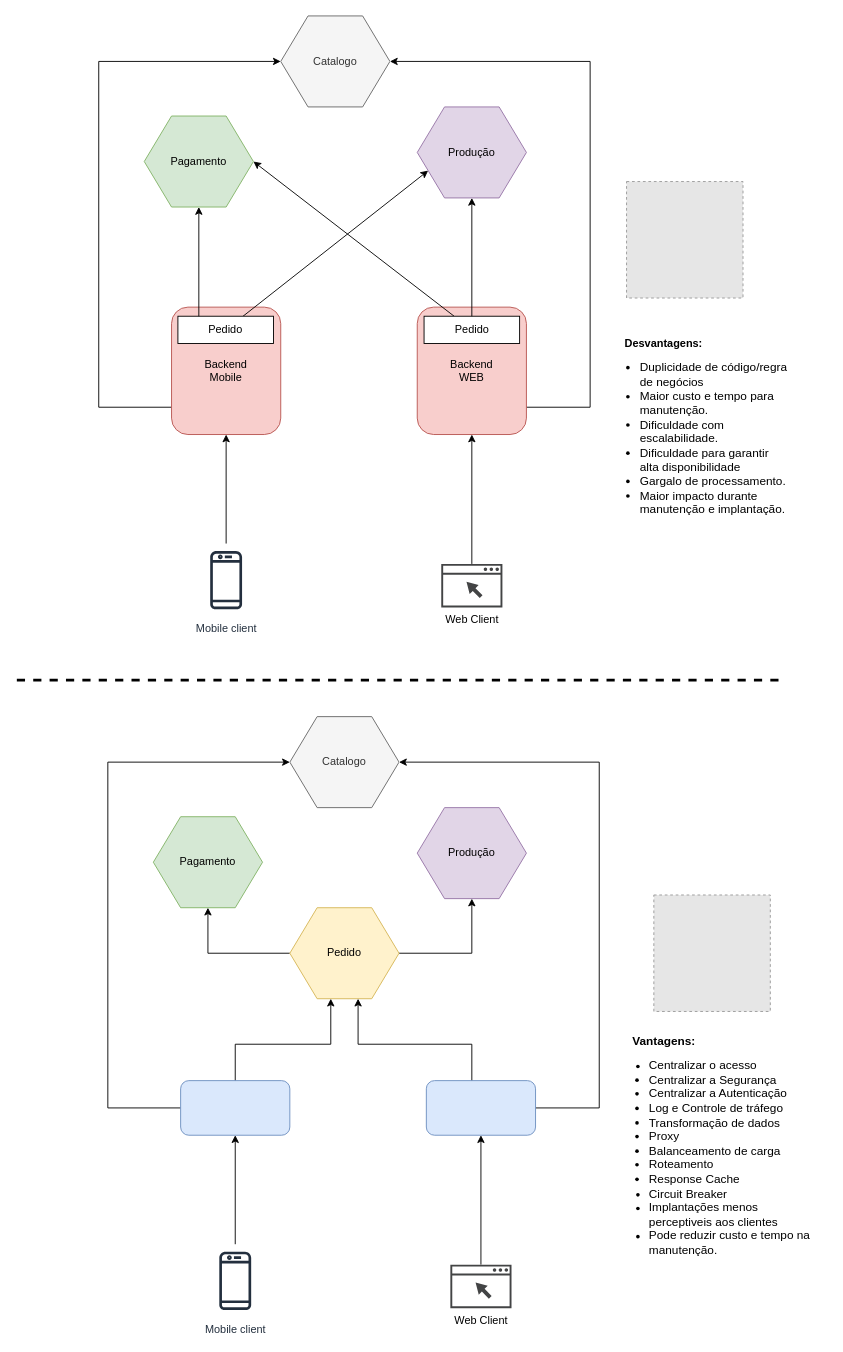
The diagram is 843 pixels wide and 1352 high, and some of its shapes have lost their labels. Grey dashed boxes stand in for pictures. The centre of each missing label's shape, as x and y in pixels:
"API Gateway Mobile" belongs at point (235, 1107).
"API Gateway WEB" belongs at point (480, 1107).
